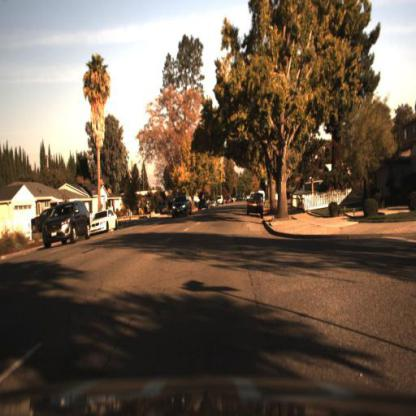car: (44, 202, 92, 251), (93, 205, 119, 239), (167, 190, 193, 223), (170, 191, 194, 218), (246, 193, 268, 222), (28, 211, 47, 232), (196, 197, 210, 215)
